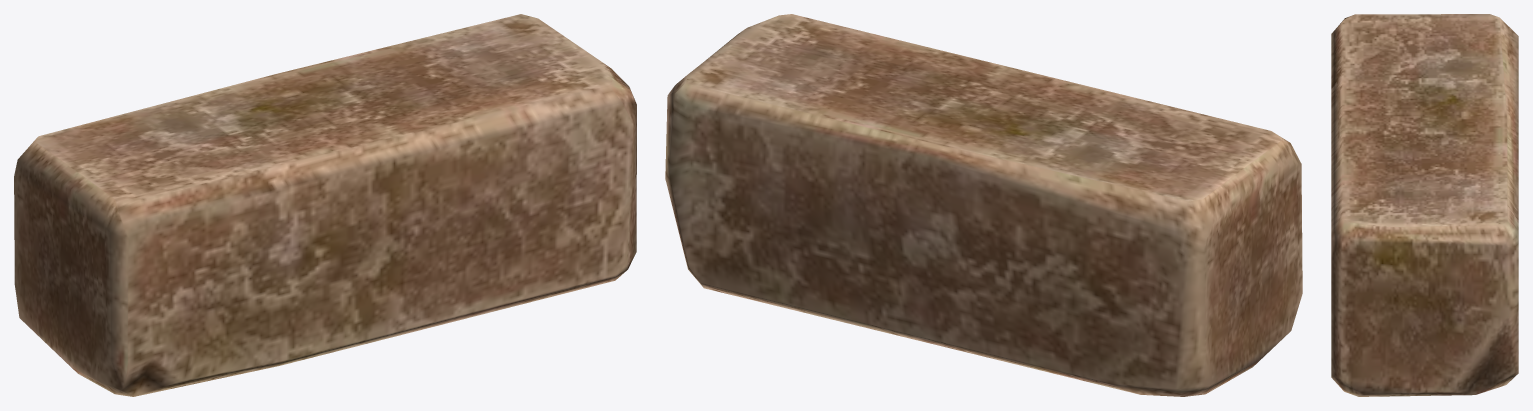
3 views of the same model, side by side, from view 1: azimuth 30°, elevation 25°; view 2: azimuth 150°, elevation 25°; view 3: azimuth 270°, elevation 25° (orthographic). The views are drawn at different scales.
Parts seen in each view (by area): view 1: SM_Human_Ruins_Brick_02_LOD0; view 2: SM_Human_Ruins_Brick_02_LOD0; view 3: SM_Human_Ruins_Brick_02_LOD0.
Boxes of the visible parts, bbox=[...] form: SM_Human_Ruins_Brick_02_LOD0: bbox=[14, 14, 636, 396]; SM_Human_Ruins_Brick_02_LOD0: bbox=[665, 14, 1302, 396]; SM_Human_Ruins_Brick_02_LOD0: bbox=[1331, 14, 1518, 396].
Bounding box in the file's own units: 0.35 × 0.125 × 0.125.
Materials: 1 (1 with a texture image).
